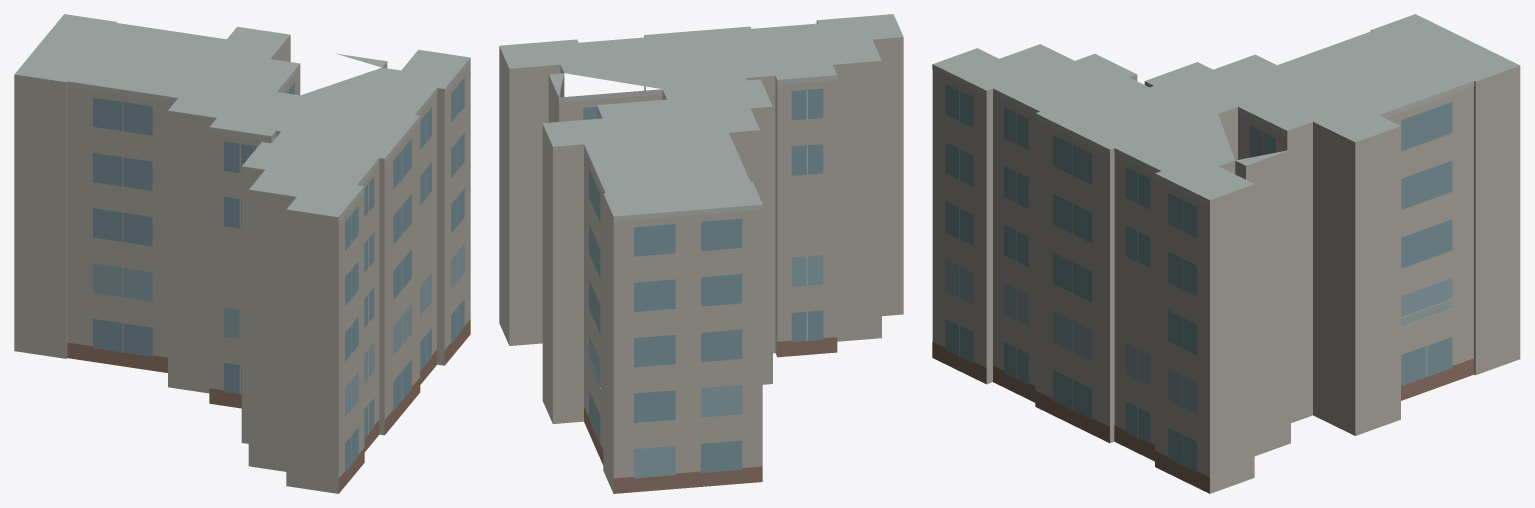
File: survey-upis-32942116.glb
The picture shows the model from 3 angles, left to right: view 1: azimuth 30°, elevation 25°; view 2: azimuth 150°, elevation 25°; view 3: azimuth 270°, elevation 25°; orthographic projection. The views are drawn at different scales.
Parts seen in each view (by area): view 1: survey-upis-32942116.tmp; view 2: survey-upis-32942116.tmp; view 3: survey-upis-32942116.tmp.
Part boxes in pixels (left/top/right/bottom): survey-upis-32942116.tmp: left=14, top=14, right=470, bottom=493; survey-upis-32942116.tmp: left=499, top=14, right=903, bottom=493; survey-upis-32942116.tmp: left=932, top=14, right=1520, bottom=493.
Bounding box in the file's own units: 18.37 × 13.5 × 24.5.
